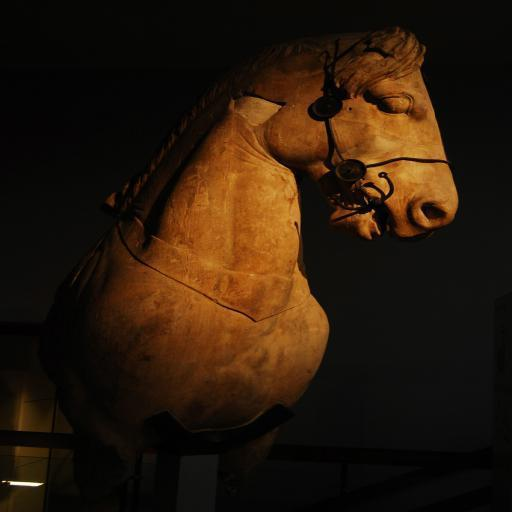horse: (25, 23, 461, 512)
